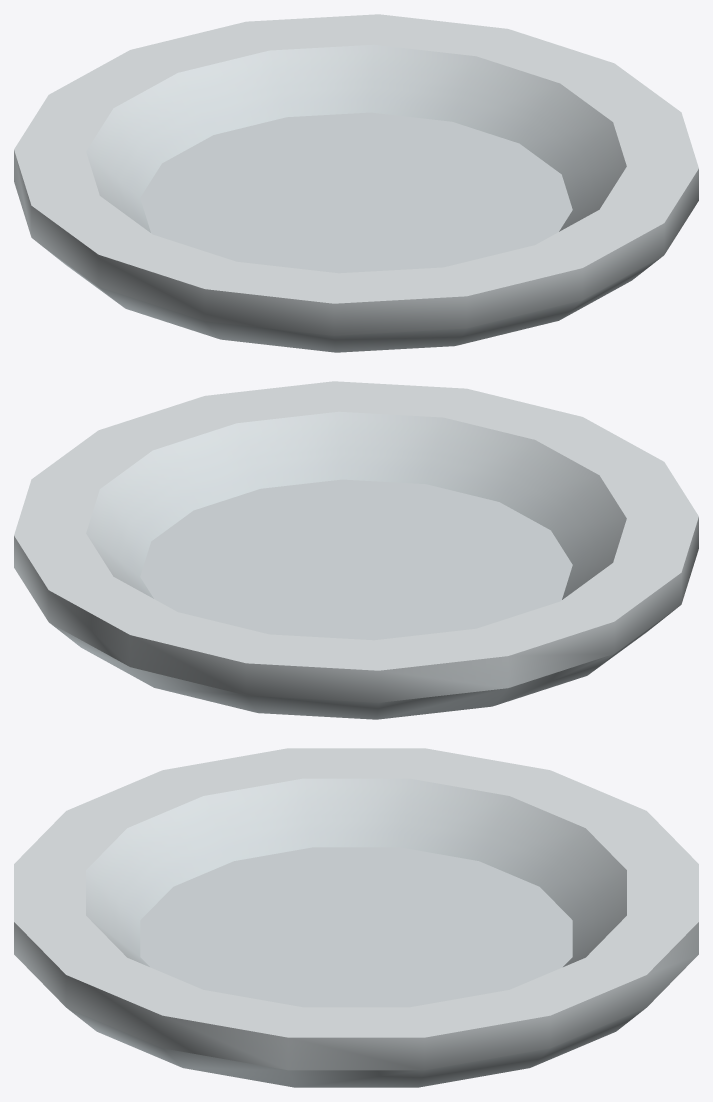
File: kay-plate.glb
3 renders of one model, top to bottom at view 1: azimuth 30°, elevation 25°; view 2: azimuth 150°, elevation 25°; view 3: azimuth 270°, elevation 25°, orthographic.
Visible parts, largest first — view 1: plate; view 2: plate; view 3: plate.
Part boxes in pixels (left/top/right/bottom): plate: left=14, top=14, right=698, bottom=352; plate: left=14, top=381, right=698, bottom=719; plate: left=14, top=748, right=698, bottom=1087.
Bounding box in the file's own units: 0.22 × 0.0232 × 0.22.
1 material, 1 textured.
